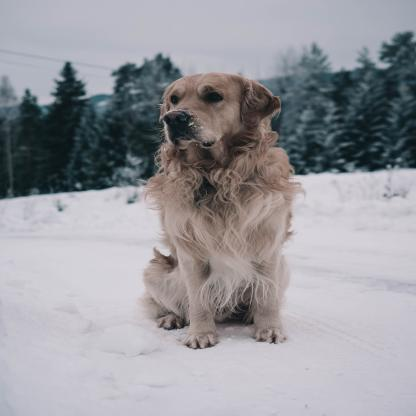dog: (139, 69, 301, 343)
